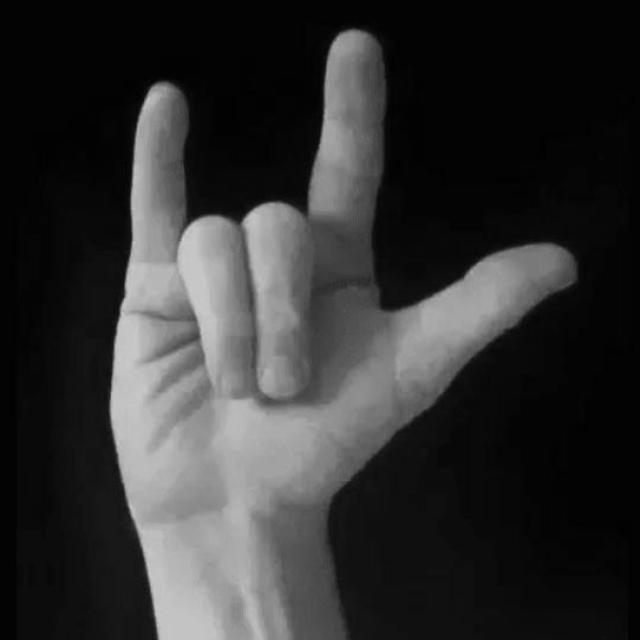i love you: (95, 20, 587, 577)
